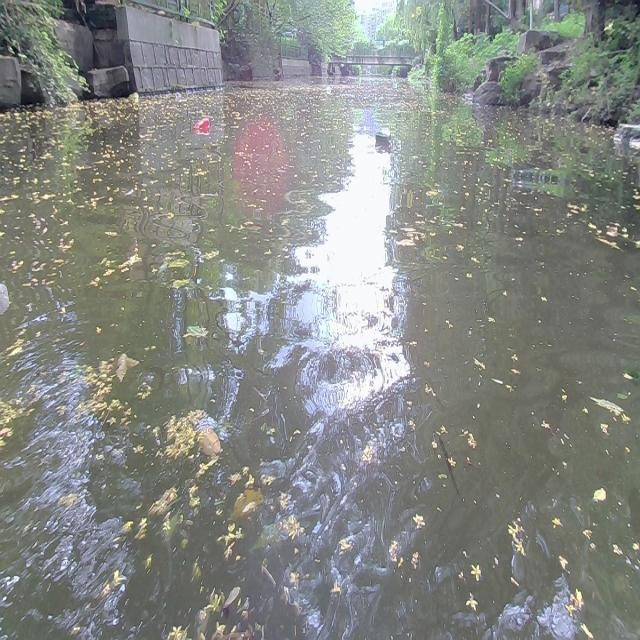bottle: (373, 126, 392, 143), (193, 118, 211, 135), (174, 91, 181, 97)
